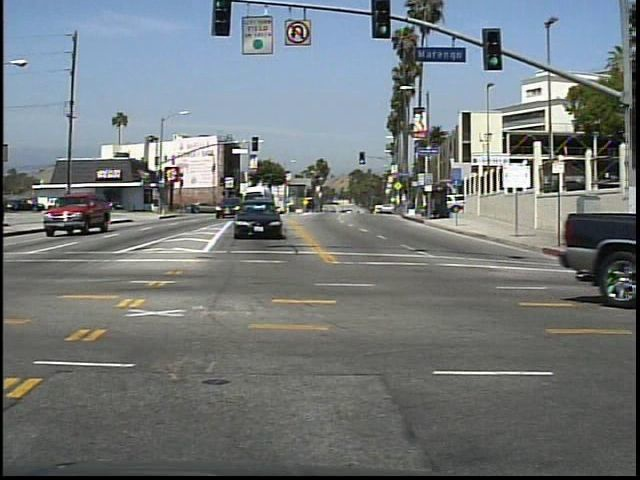person: (62, 192, 79, 220)
